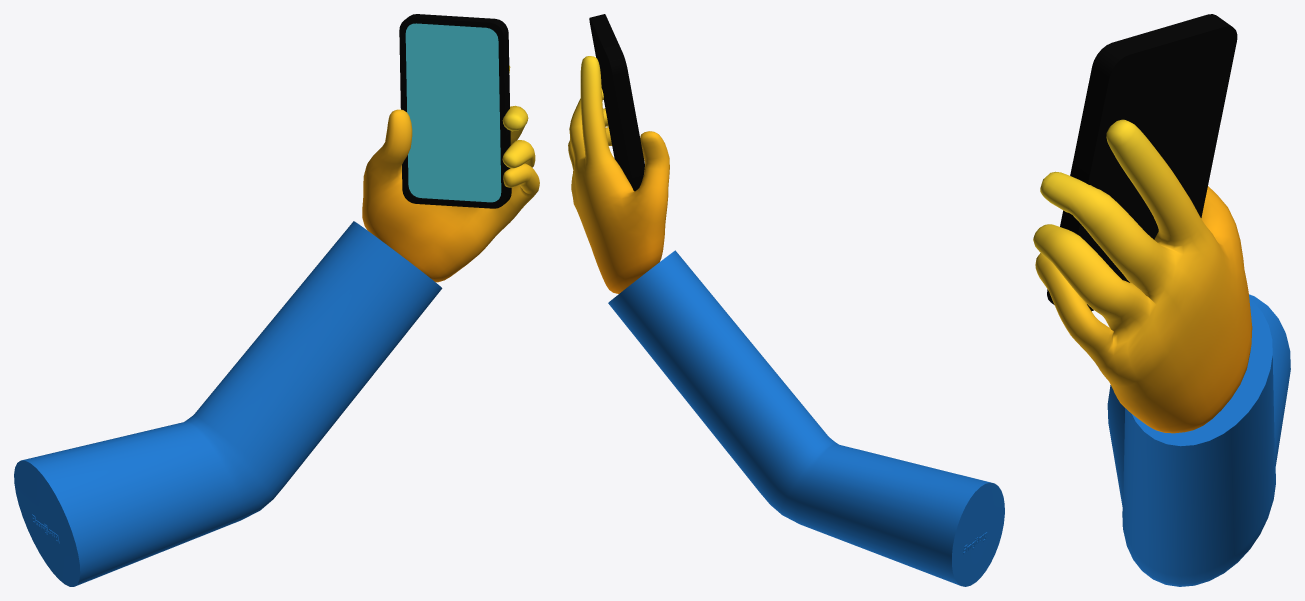
Rendered from selfie.gltf.
3 renders of one model, left to right at view 1: azimuth 30°, elevation 25°; view 2: azimuth 150°, elevation 25°; view 3: azimuth 270°, elevation 25°, orthographic. The views are drawn at different scales.
Visible parts, largest first — view 1: Circle.271, Plane.025, hand.055; view 2: Circle.271, hand.055, Plane.025; view 3: hand.055, Circle.271, Plane.025.
Boxes of the visible parts, left/top/right/bottom form: Circle.271: left=14, top=221, right=442, bottom=586; Plane.025: left=399, top=14, right=511, bottom=208; hand.055: left=362, top=65, right=539, bottom=282; Circle.271: left=608, top=250, right=1004, bottom=586; hand.055: left=568, top=56, right=669, bottom=293; Plane.025: left=589, top=14, right=644, bottom=191; hand.055: left=1033, top=119, right=1252, bottom=433; Circle.271: left=1107, top=294, right=1290, bottom=586; Plane.025: left=1047, top=14, right=1237, bottom=311.
Size of the model in its own units: 1.74 by 1.71 by 0.5282.
Materials: 1 (1 with a texture image).
